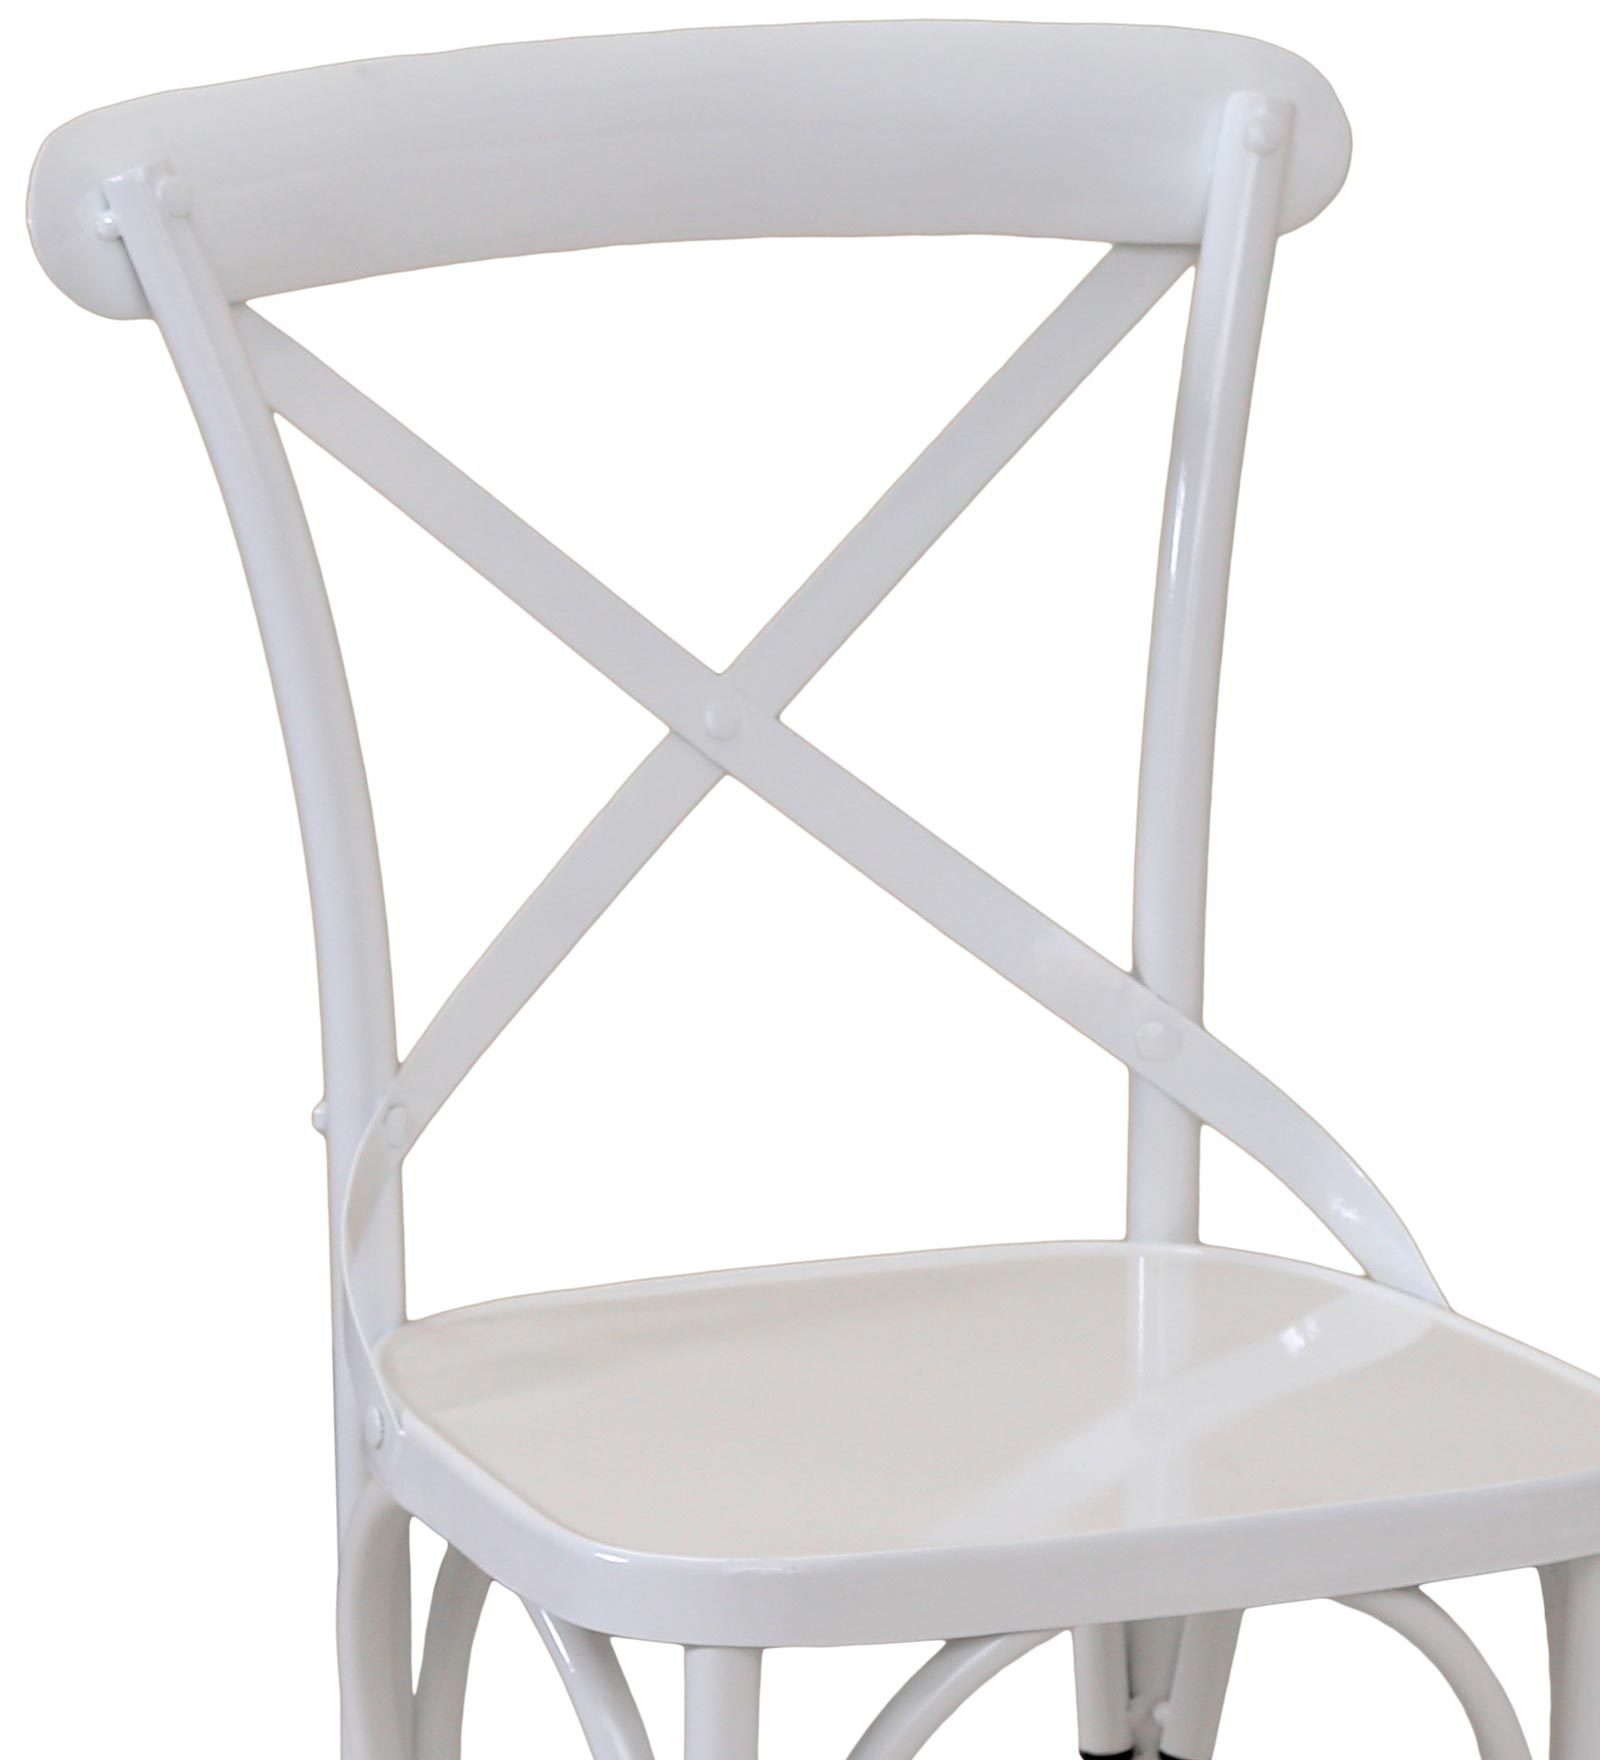Fabian Metal Chair in White Color by Bohemiana: (20, 15, 1592, 1760)
